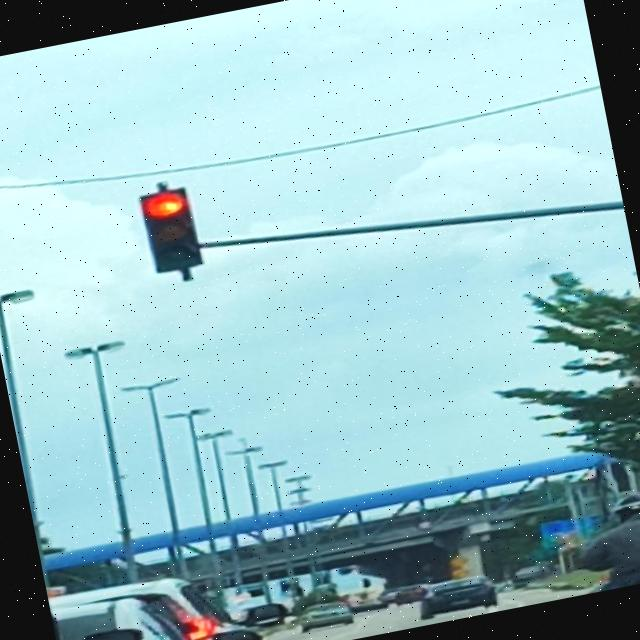red_light: (140, 187, 204, 276)
